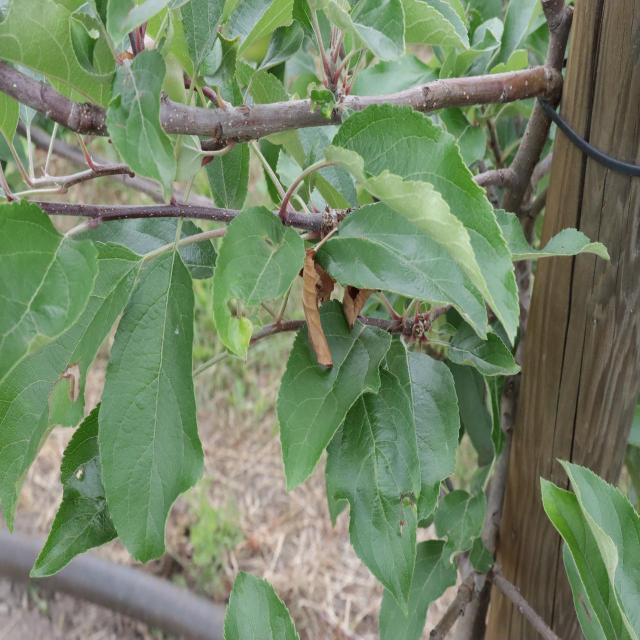-FireBlight-: (297, 247, 333, 367)
